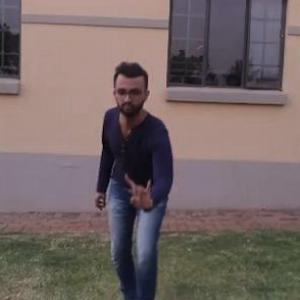takeoff-hand: (121, 163, 160, 211)
